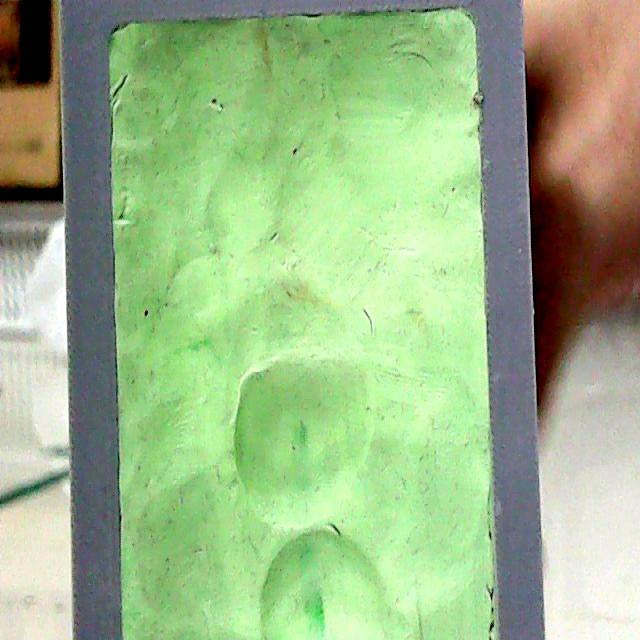block: (40, 2, 569, 640)
